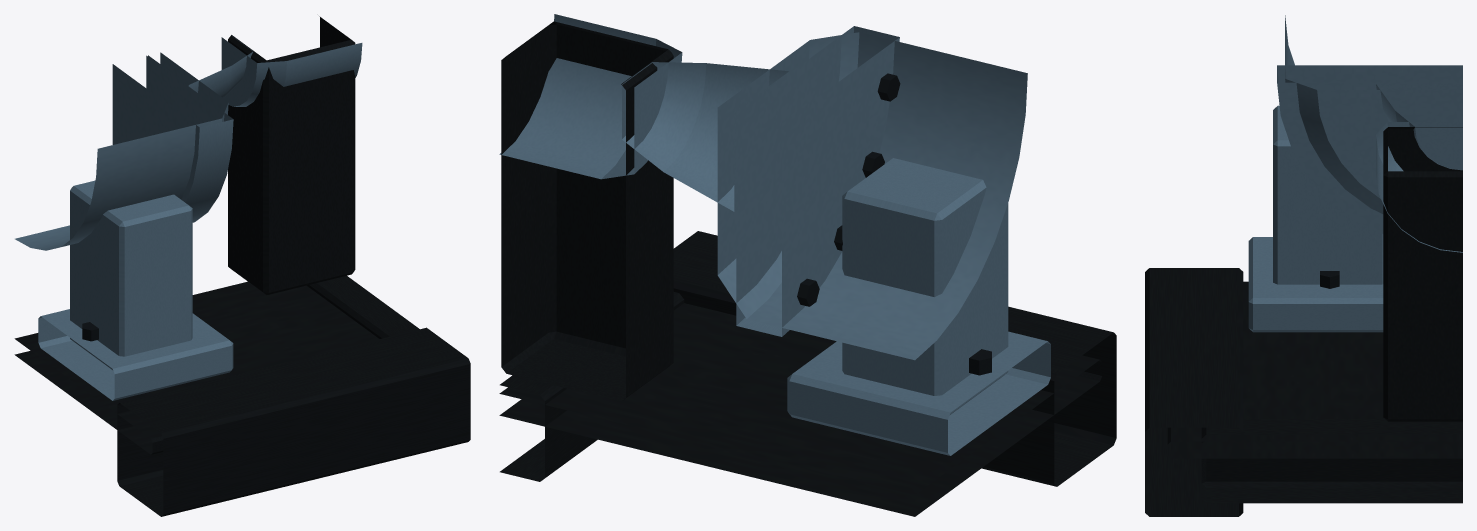
The model's file is cell_8.obj.
The picture shows the model from 3 angles, left to right: view 1: azimuth 30°, elevation 25°; view 2: azimuth 150°, elevation 25°; view 3: azimuth 270°, elevation 25°; orthographic projection. The views are drawn at different scales.
Visible parts, largest first — view 1: cell_8; view 2: cell_8; view 3: cell_8.
Part boxes in pixels (x1,y1,x2,y2): cell_8: (14, 16, 470, 516); cell_8: (499, 14, 1116, 516); cell_8: (1145, 15, 1462, 516).
Size of the model in its own units: 1 by 1 by 0.84.
